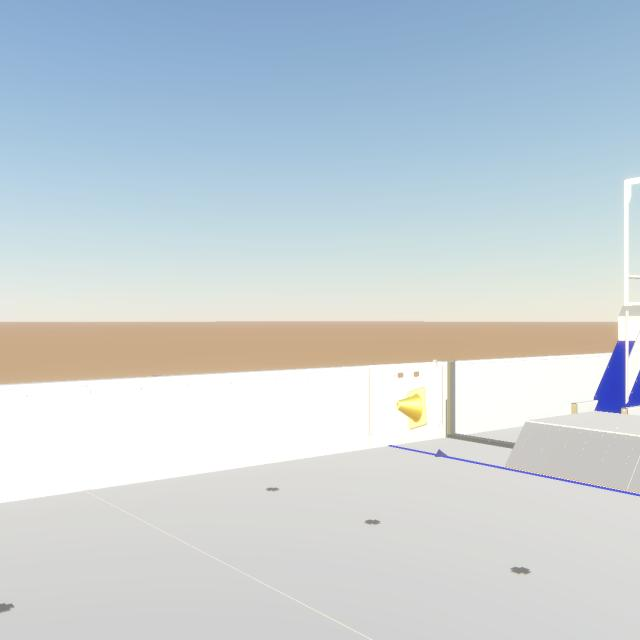frc_cone: (396, 387, 427, 430)
frc_cube: (435, 449, 448, 457), (153, 375, 161, 376)
